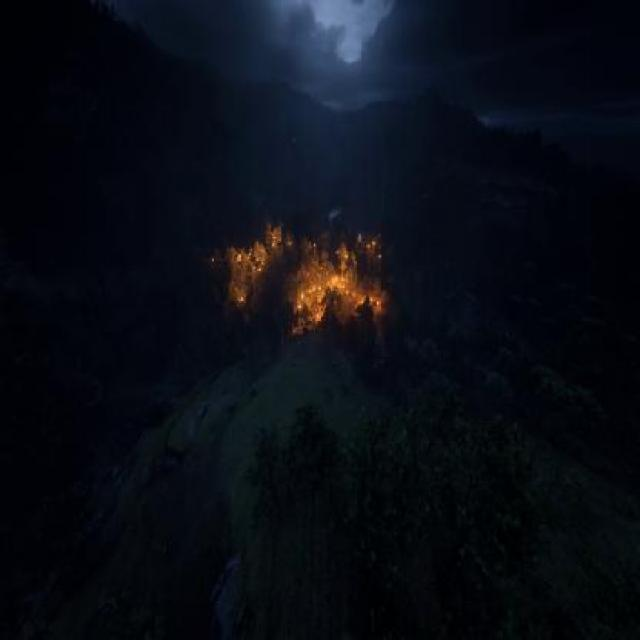Fire: (201, 201, 401, 350)
